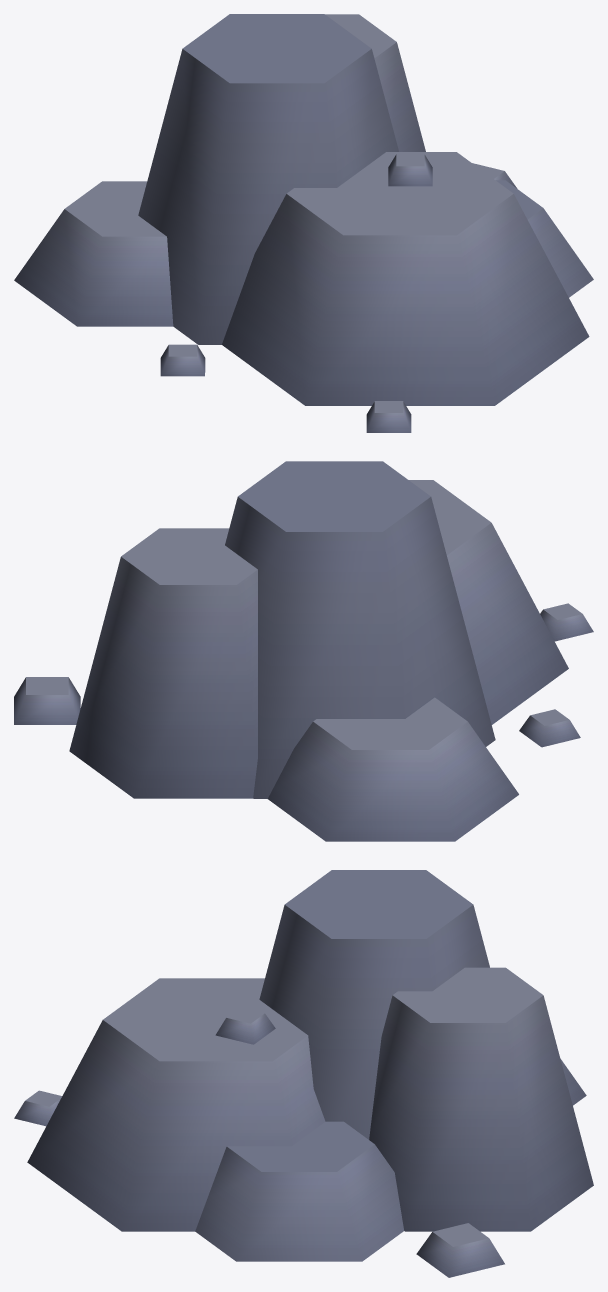
The model's file is rocks-small.glb.
The picture shows the model from 3 angles, top to bottom: view 1: azimuth 30°, elevation 25°; view 2: azimuth 150°, elevation 25°; view 3: azimuth 270°, elevation 25°; orthographic projection. The views are drawn at different scales.
Visible parts, largest first — view 1: rocks-small; view 2: rocks-small; view 3: rocks-small.
Part boxes in pixels (<box>): rocks-small: <box>14,14,593,432</box>; rocks-small: <box>14,461,593,841</box>; rocks-small: <box>14,870,593,1277</box>.
Size of the model in its own units: 1.03 by 0.4999 by 1.11.
1 material, 1 textured.
